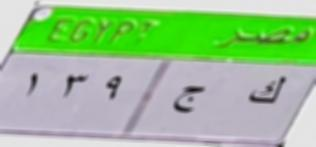1: (23, 67, 43, 100)
3: (59, 72, 89, 104)
9: (102, 72, 124, 102)
jeem: (170, 81, 205, 120)
kaaf: (243, 68, 289, 110)
